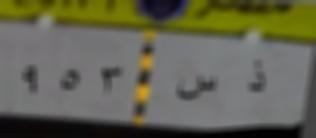3: (97, 57, 129, 98)
5: (54, 65, 88, 94)
9: (17, 60, 46, 96)
seen: (176, 71, 220, 106)
zaal: (242, 55, 270, 98)
